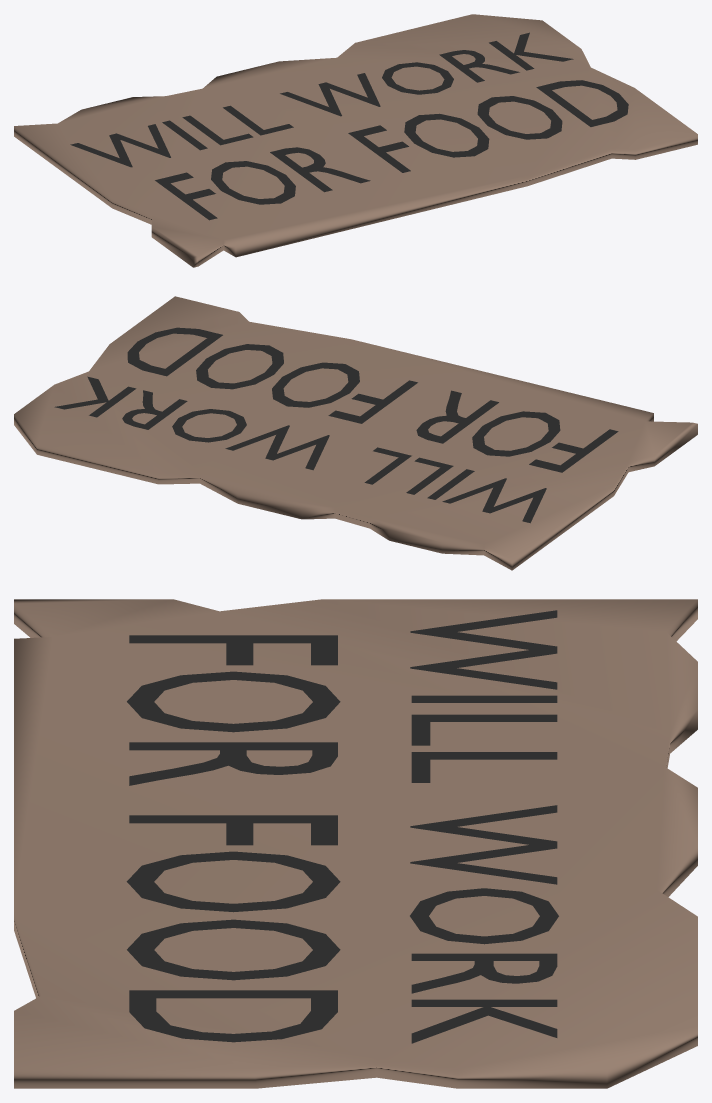
File: cardboard sign.fbx
3 renders of one model, top to bottom at view 1: azimuth 30°, elevation 25°; view 2: azimuth 150°, elevation 25°; view 3: azimuth 270°, elevation 25°, orthographic. The views are drawn at different scales.
Visible parts, largest first — view 1: cardboard sign; view 2: cardboard sign; view 3: cardboard sign.
Part boxes in pixels (x1,y1,x2,y2): cardboard sign: [14, 14, 697, 267]; cardboard sign: [14, 296, 697, 570]; cardboard sign: [14, 599, 697, 1088].
Bounding box in the file's own units: 0.7058 × 0.0188 × 0.4345.
